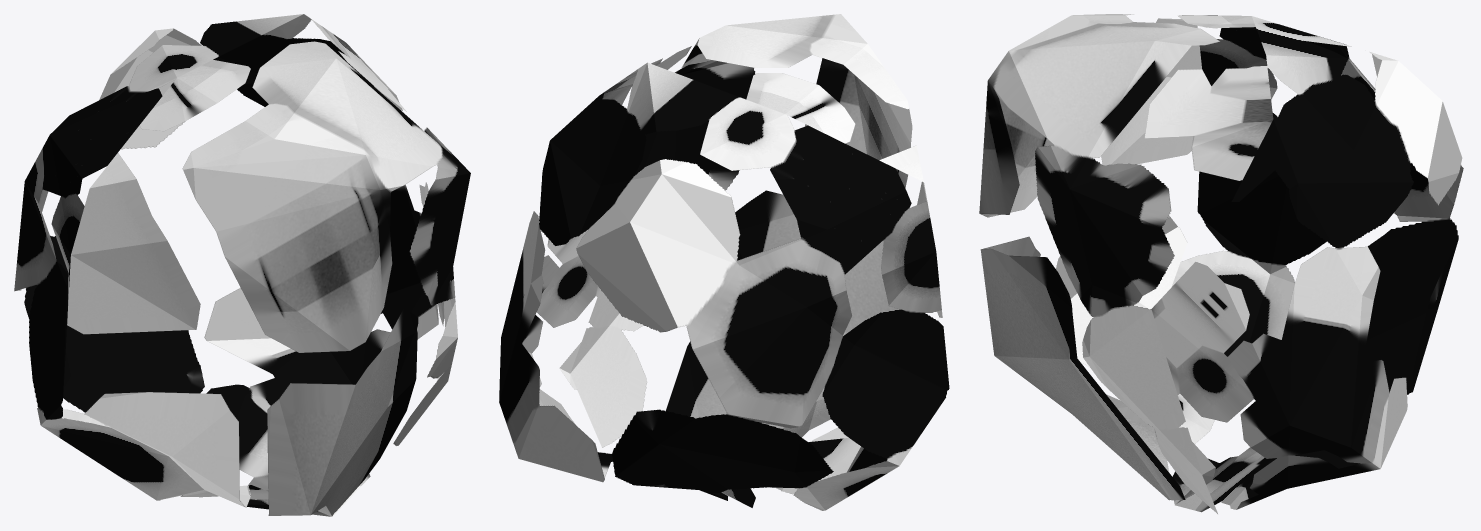
Rendered from rock.obj.
3 renders of one model, left to right at view 1: azimuth 30°, elevation 25°; view 2: azimuth 150°, elevation 25°; view 3: azimuth 270°, elevation 25°, orthographic. The views are drawn at different scales.
Parts seen in each view (by area): view 1: New_Rock_Cube; view 2: New_Rock_Cube; view 3: New_Rock_Cube.
Part boxes in pixels (box(x1,y1,x2,y2)): New_Rock_Cube: box(14, 14, 470, 516); New_Rock_Cube: box(499, 14, 949, 510); New_Rock_Cube: box(979, 14, 1463, 513).
Bounding box in the file's own units: 6.8 × 7.33 × 7.04.
